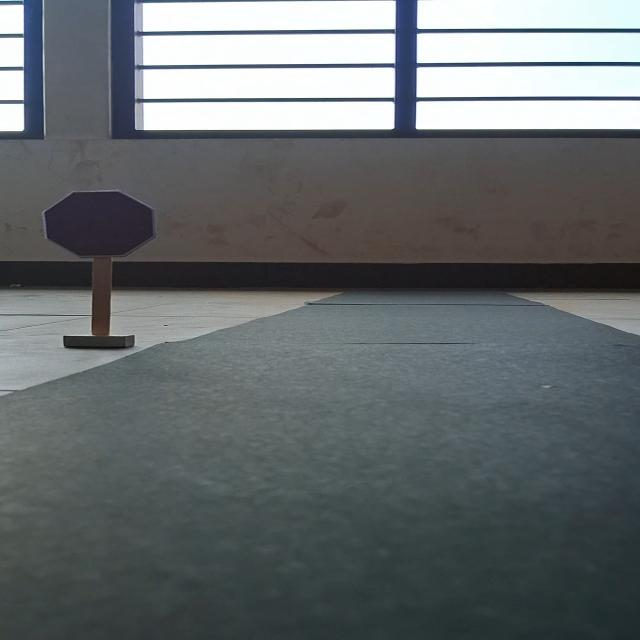Stop: (41, 190, 159, 259)
